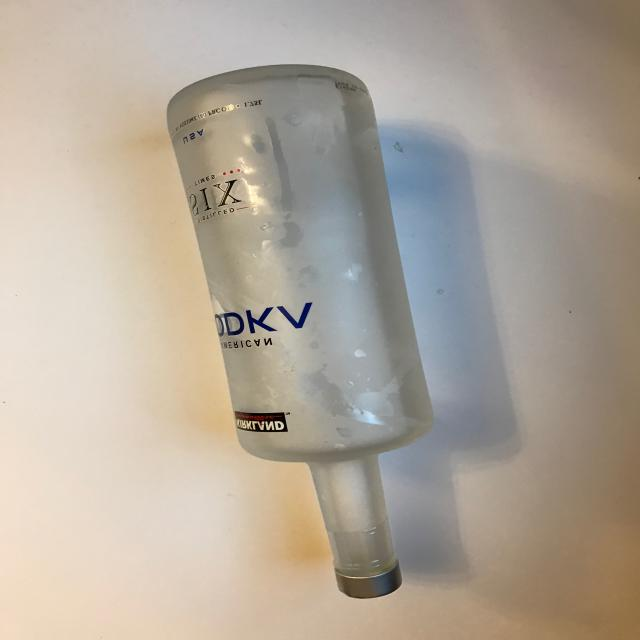glass: (166, 63, 436, 598)
